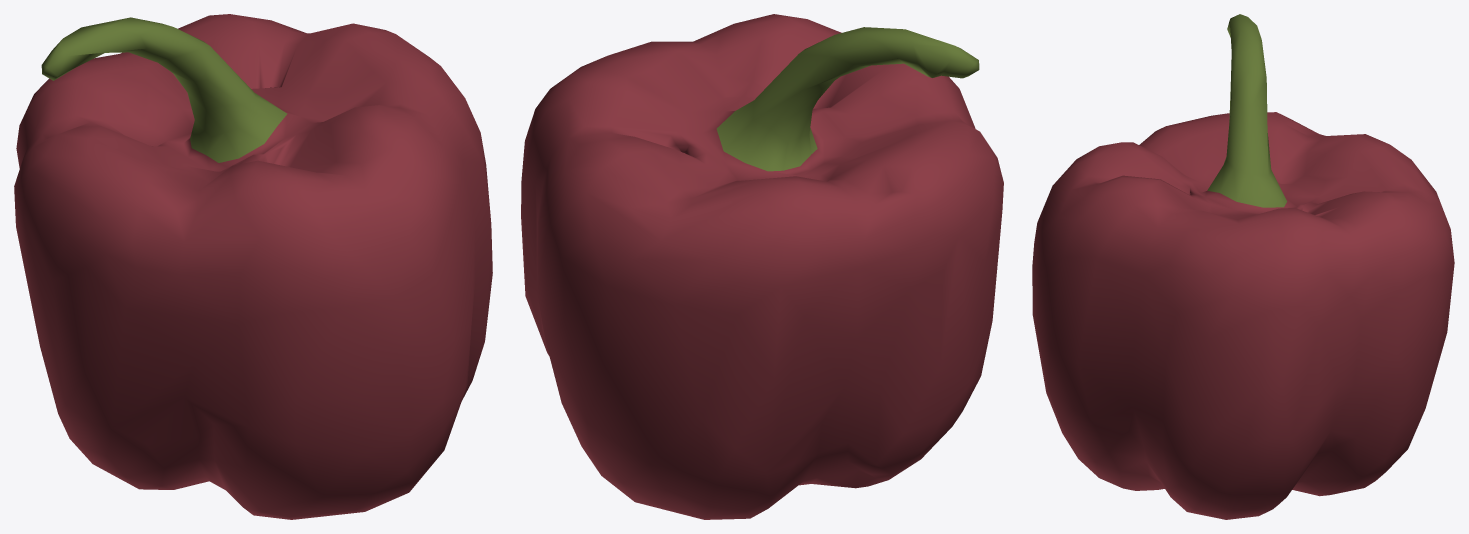
Rendered from pimento vermelho.fbx.
3 renders of one model, left to right at view 1: azimuth 30°, elevation 25°; view 2: azimuth 150°, elevation 25°; view 3: azimuth 270°, elevation 25°, orthographic. The views are drawn at different scales.
Parts seen in each view (by area): view 1: 79_pepper1; view 2: 79_pepper1; view 3: 79_pepper1.
Boxes of the visible parts, x1,y1,x2,y2 form: 79_pepper1: [14, 14, 492, 519]; 79_pepper1: [521, 14, 1003, 519]; 79_pepper1: [1032, 14, 1454, 519].
Size of the model in its own units: 91.63 by 96.37 by 94.41.
